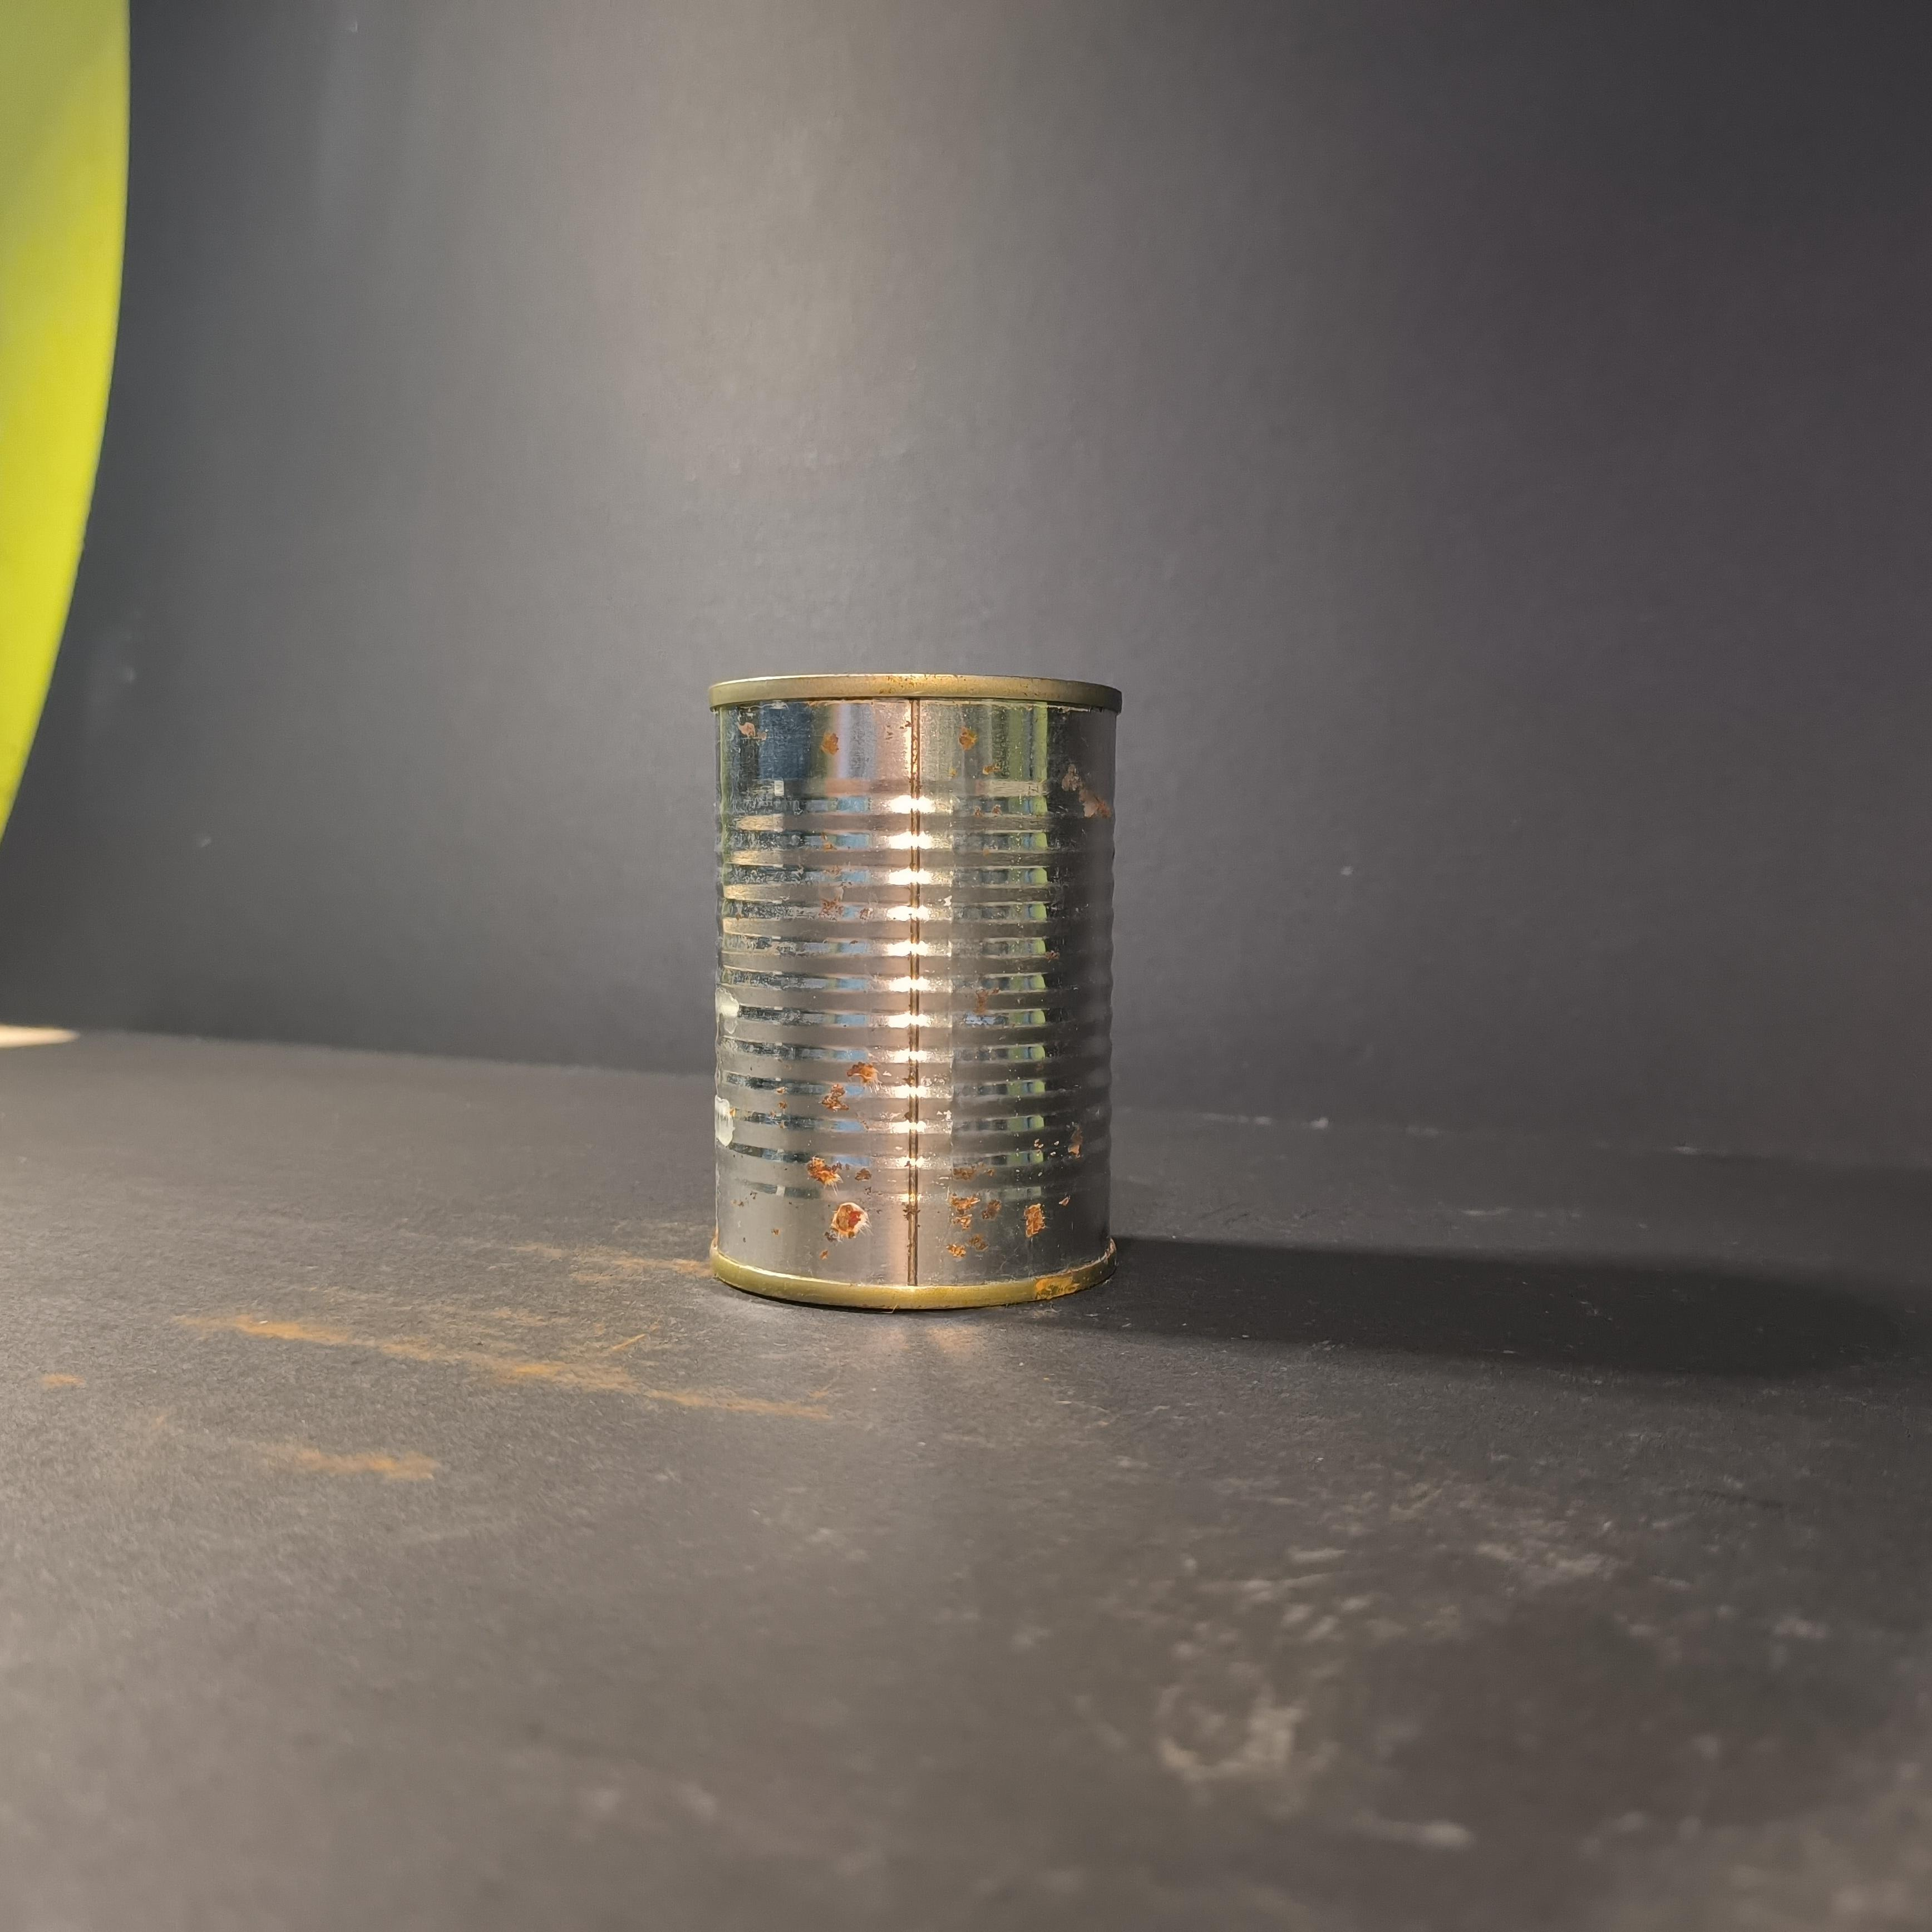Rusted: (690, 646, 1146, 1330)
